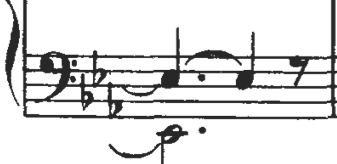bass_clef: (36, 42, 80, 105)
flat: (102, 80, 128, 128), (87, 47, 110, 92), (77, 70, 96, 114)
